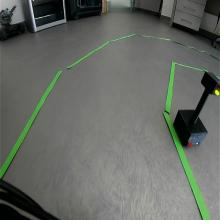green: (201, 71, 220, 96)
